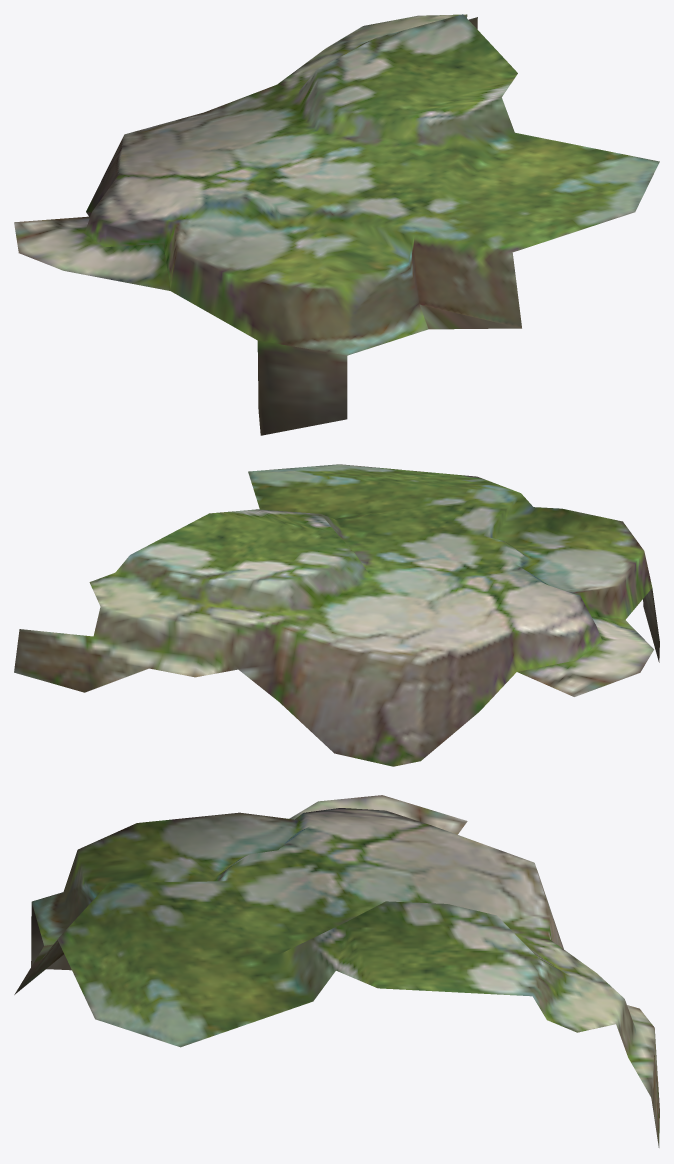
Rendered from S_Rock_Green077_H3.FBX.
3 views of the same model, one above another, from view 1: azimuth 30°, elevation 25°; view 2: azimuth 150°, elevation 25°; view 3: azimuth 270°, elevation 25° (orthographic). The views are drawn at different scales.
Visible parts, largest first — view 1: S_Rock_Green077_H3; view 2: S_Rock_Green077_H3; view 3: S_Rock_Green077_H3.
Part boxes in pixels (x1,y1,x2,y2): S_Rock_Green077_H3: (14,14,659,435); S_Rock_Green077_H3: (14,464,659,766); S_Rock_Green077_H3: (14,795,659,1147).
Size of the model in its own units: 1168 by 331 by 1048.
